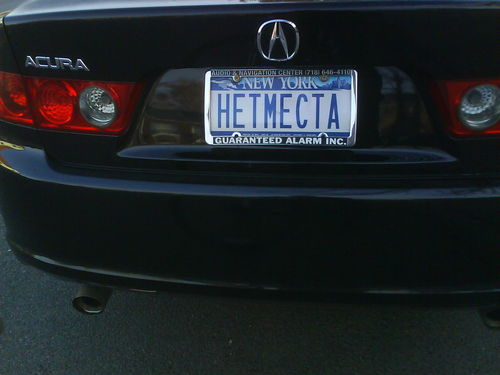license plate: (203, 67, 358, 149)
